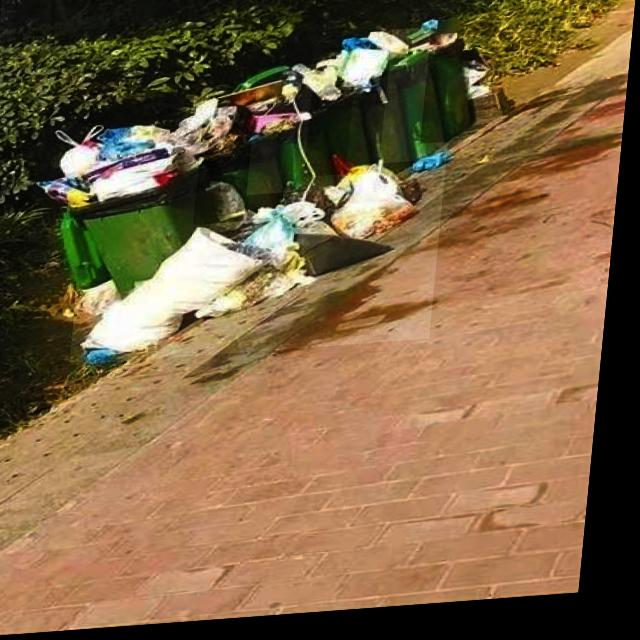garbage: (77, 151, 452, 367)
overflow: (29, 120, 224, 304), (251, 67, 350, 200), (198, 98, 297, 229), (349, 35, 431, 182), (383, 32, 459, 170), (308, 49, 383, 182), (424, 22, 489, 151)
